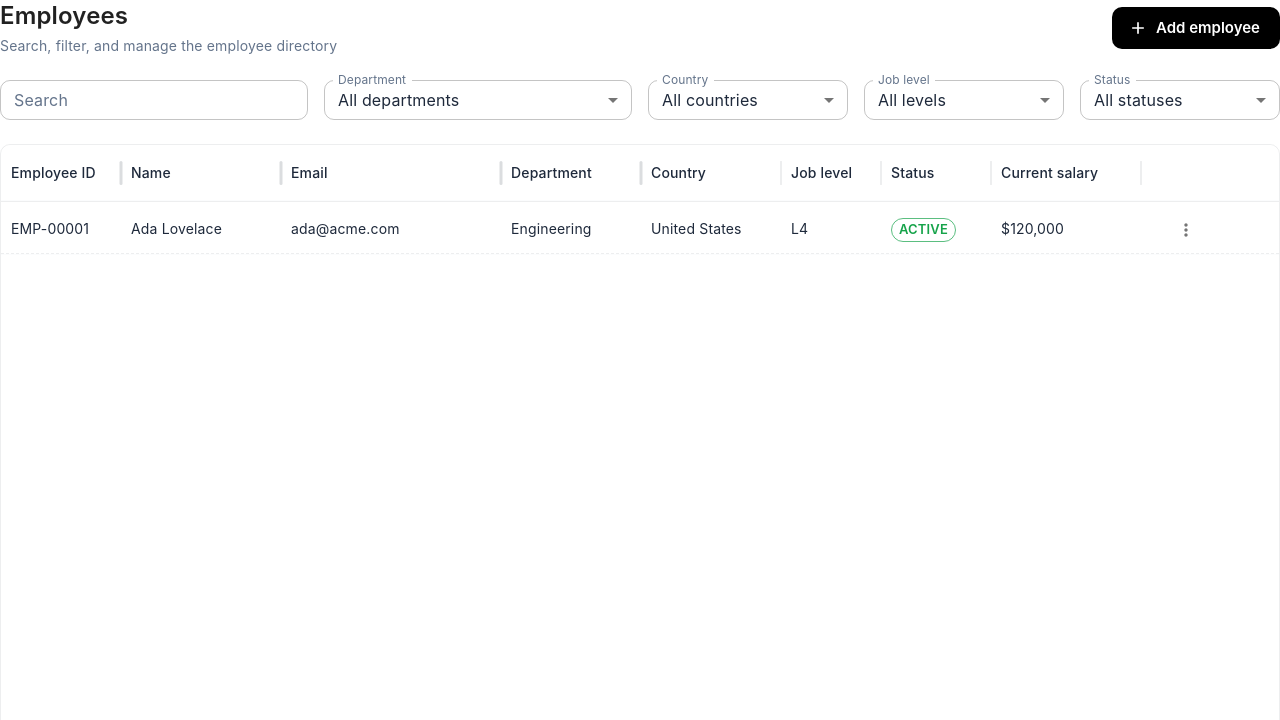
EmployeeListPage (status toggle confirm dialog) › closes the dialog without saving when cancelled
The image size is (1280, 720).
Check: the text "Ada Lovelace" is shown, box left=131, top=220, right=222, bottom=237
Click the button named "actions for ada lovelace": coordinates (1186, 230) left=1171, top=215, right=1201, bottom=245
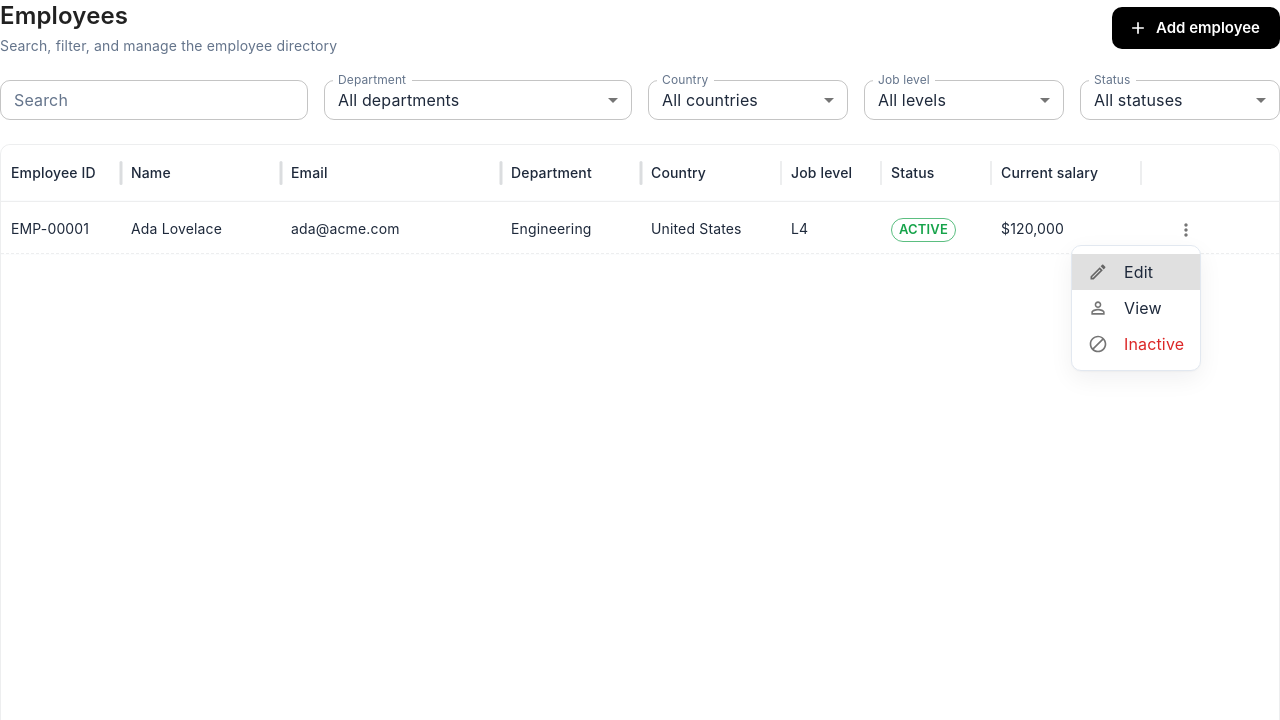
Click the menu item "Inactive": coordinates (1136, 344) left=1088, top=334, right=1184, bottom=354
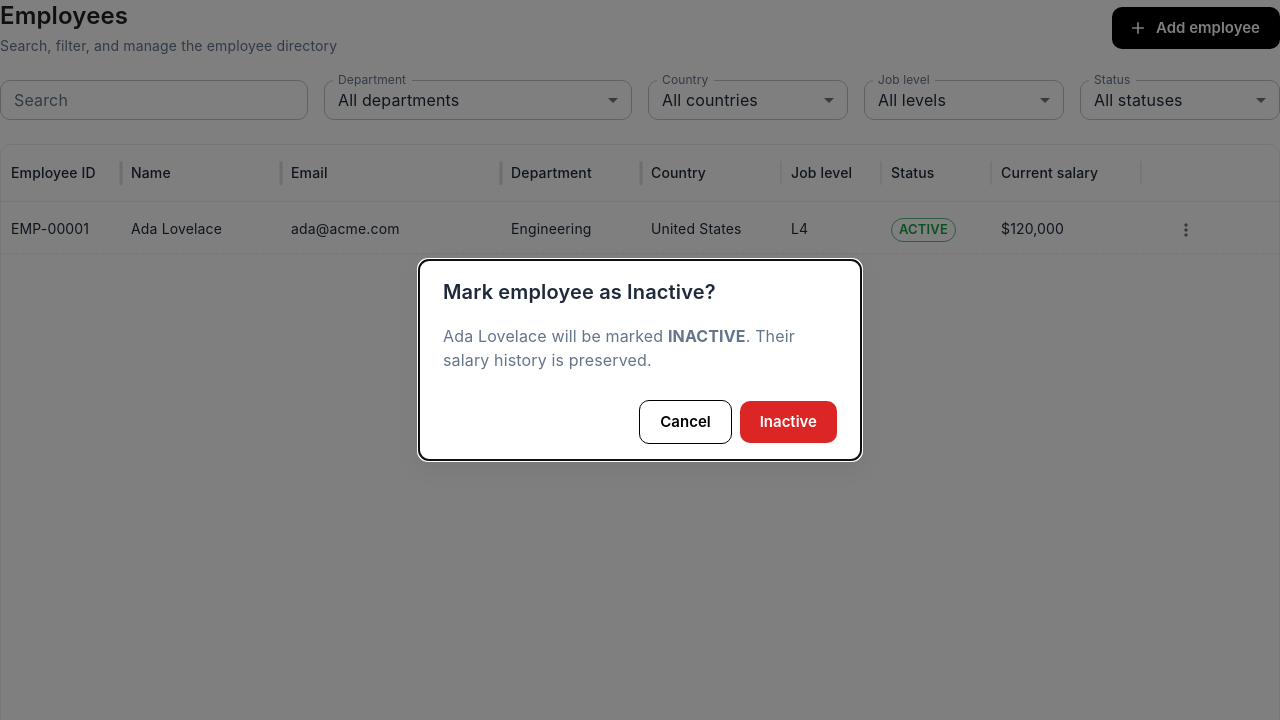
Check: the heading "Mark employee as Inactive?" is shown, box left=443, top=280, right=716, bottom=304
Click the button "Cancel": coordinates (686, 422) left=639, top=400, right=732, bottom=444
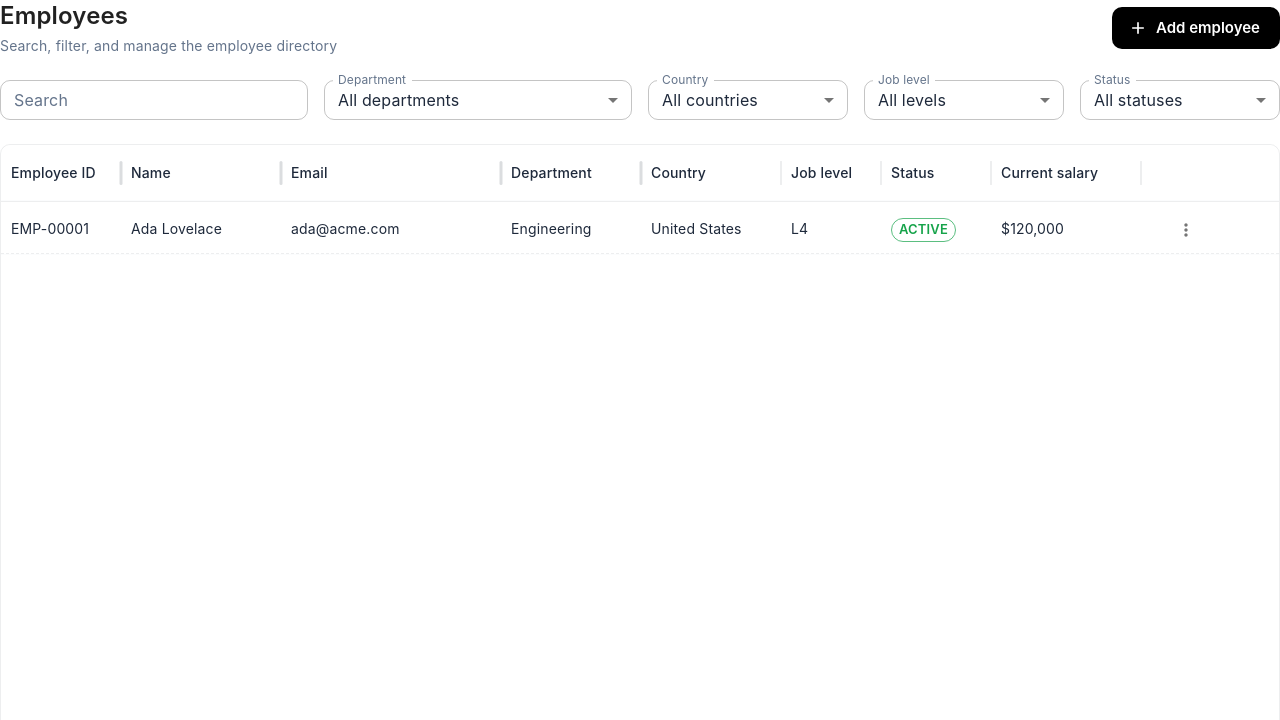
Check: the heading "Mark employee as Inactive?" is gone
